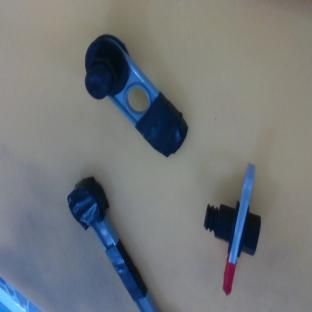part_1_bad: (65, 27, 198, 170)
part_1_good: (198, 163, 268, 296)
part_3_bad: (60, 173, 158, 312)
